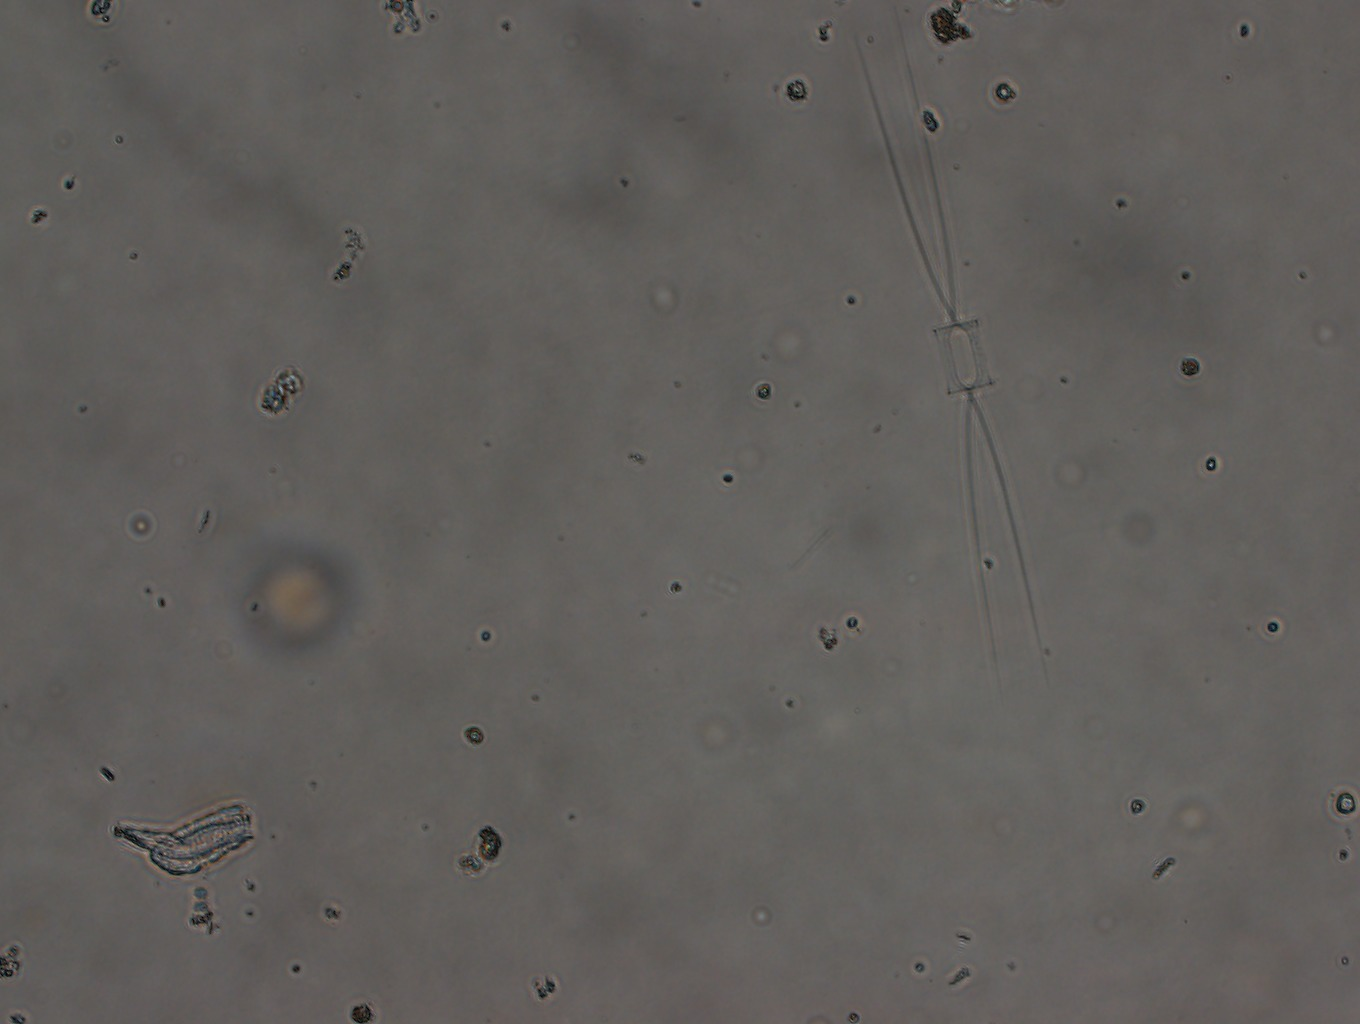chaetoceros: (853, 27, 1049, 693)
